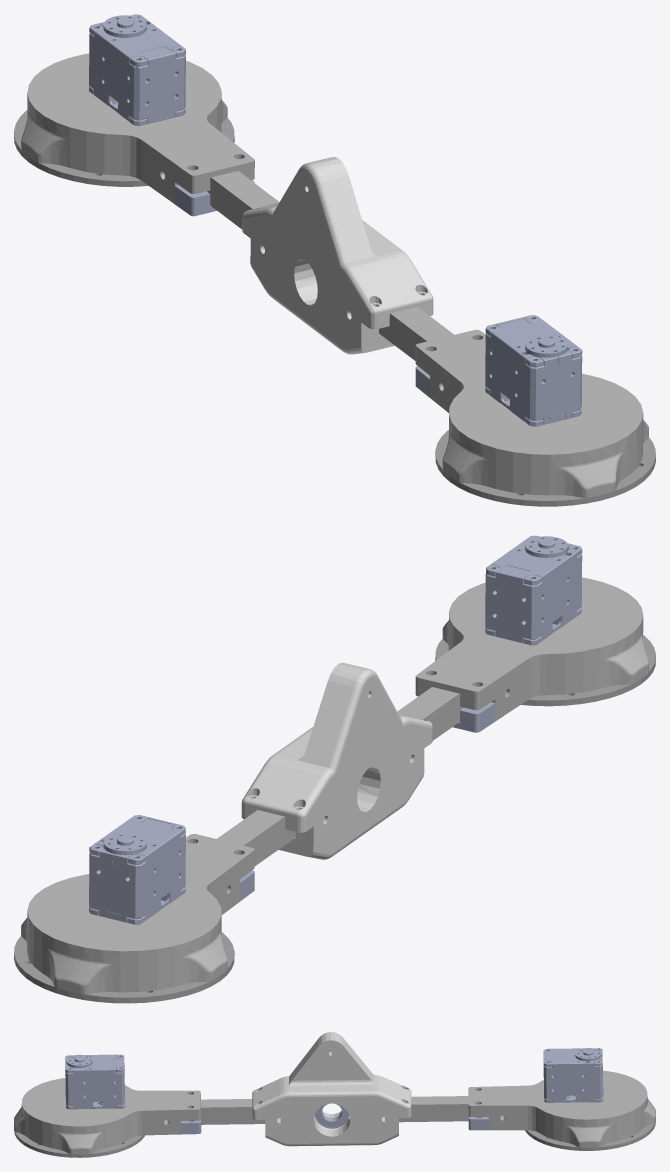
File: left-drivetrain.glb
The picture shows the model from 3 angles, top to bottom: view 1: azimuth 30°, elevation 25°; view 2: azimuth 150°, elevation 25°; view 3: azimuth 270°, elevation 25°; orthographic projection. The views are drawn at different scales.
Parts seen in each view (by area): view 1: Left Drivetrain; view 2: Left Drivetrain; view 3: Left Drivetrain.
Part boxes in pixels (box(x1,y1,x2,y2)): Left Drivetrain: box(14, 14, 655, 506); Left Drivetrain: box(14, 535, 655, 1003); Left Drivetrain: box(14, 1032, 655, 1157).
Size of the model in its own units: 0.105 by 0.0851 by 0.506.
